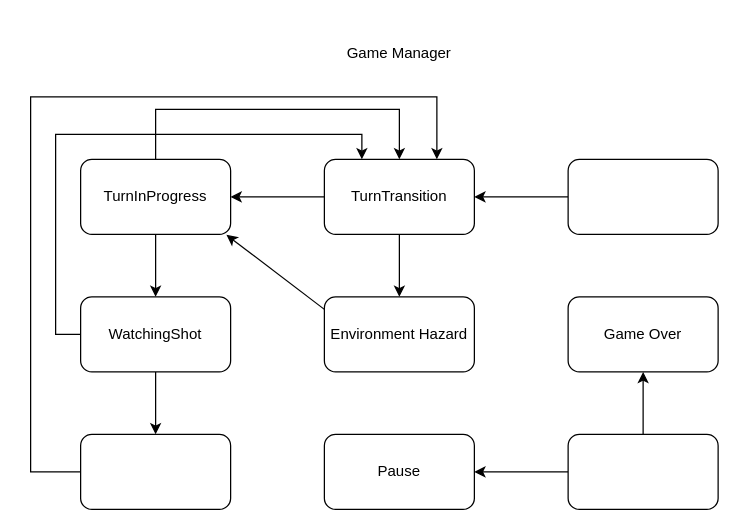
The diagram is 740 pixels wide and 531 high, and some of its shapes have lost their labels. The shapes that lost their labels are listed below. From the top down, each one's centre as x and y in pixels, then its label:
(642,196): LoadingScene
(155,471): WatchingDamage
(642,471): Any State
